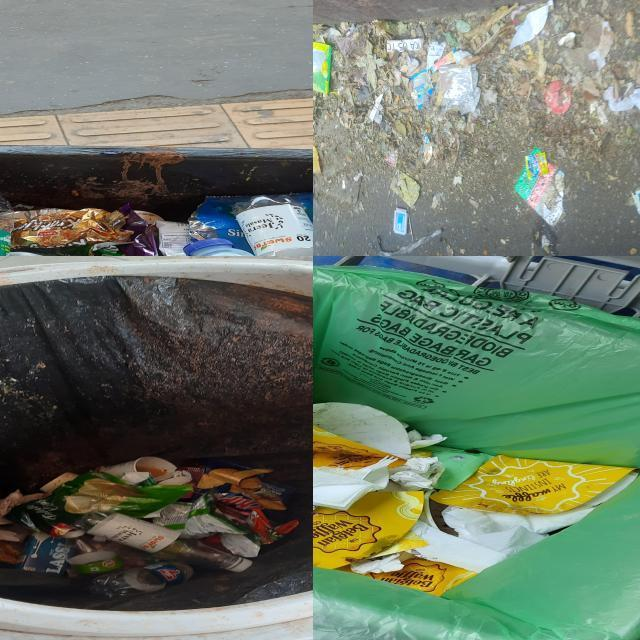Background: (313, 0, 640, 256)
Garbage: (313, 402, 639, 595), (0, 457, 297, 597), (0, 193, 313, 256)
Plastic_Bag: (338, 23, 372, 57)
Plastic_bottle: (74, 510, 251, 572), (233, 195, 313, 256), (91, 563, 194, 597), (63, 530, 126, 577)
Plastic_wraper: (6, 471, 194, 534), (15, 205, 159, 256), (12, 208, 132, 248), (213, 492, 297, 545), (153, 494, 246, 539), (515, 149, 564, 226), (413, 445, 495, 490), (192, 197, 252, 251), (436, 63, 481, 114), (156, 222, 192, 256), (313, 42, 332, 93), (221, 533, 259, 558), (411, 70, 433, 110), (604, 88, 640, 110), (430, 50, 455, 73), (0, 540, 23, 564), (121, 472, 156, 487), (178, 467, 205, 485), (369, 93, 383, 122), (422, 134, 433, 164), (384, 149, 398, 167), (183, 495, 191, 497), (221, 470, 227, 472), (376, 104, 377, 105)
Tetrapack: (17, 533, 72, 574)
